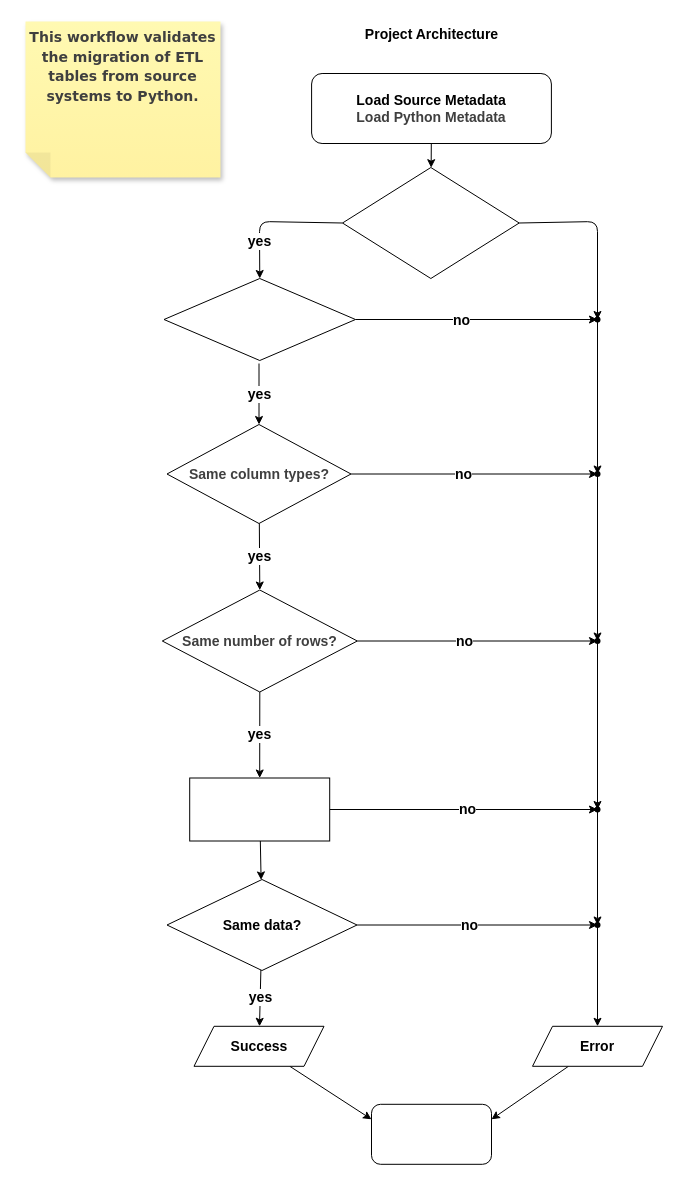
Image size: 680x1182. Some labels were removed from this diagram. Each missing label, with the centre of its shape:
End Process: (431,1133)
Same column names ?: (259,319)
Same number of columns?: (430,222)
Select random rows for comparison: (259,809)
